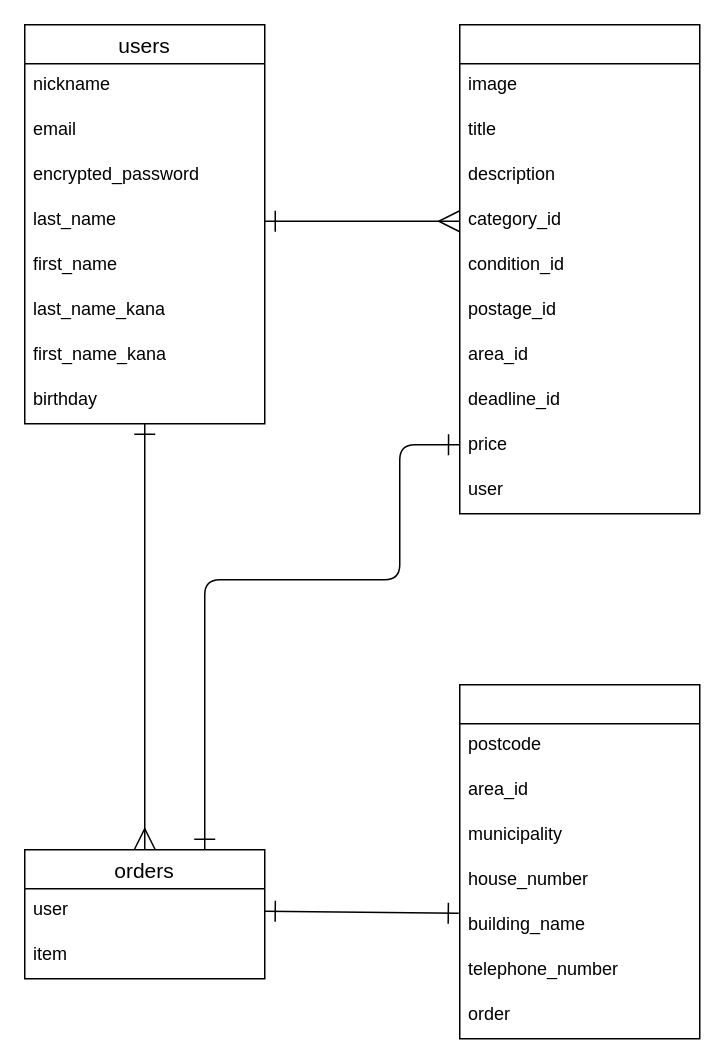
This 725x1064 diagram has some shape labels left out. Here are the shapes that lost their labels. From the top down, the box of each, then its label:
(458, 23, 700, 514): items
(458, 683, 700, 1039): destinations
